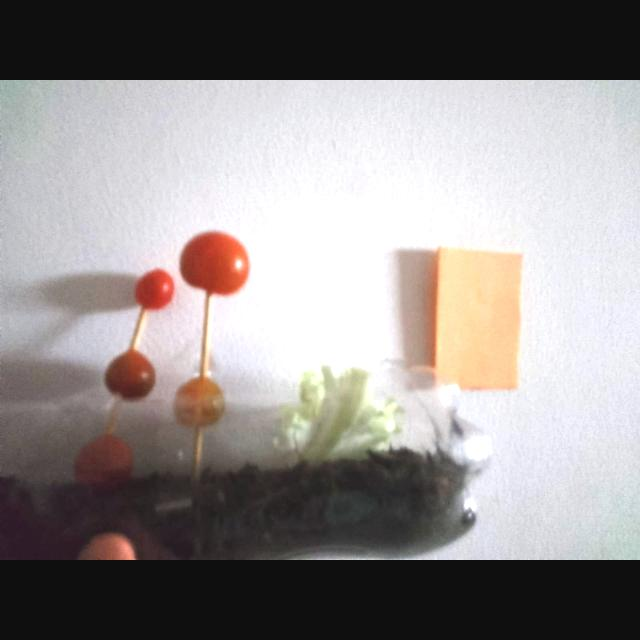card: (433, 247, 522, 389)
fruit_maturation: (174, 377, 225, 428)
fully_grown: (180, 232, 249, 295), (74, 434, 133, 486), (104, 349, 155, 401), (135, 269, 174, 310)
